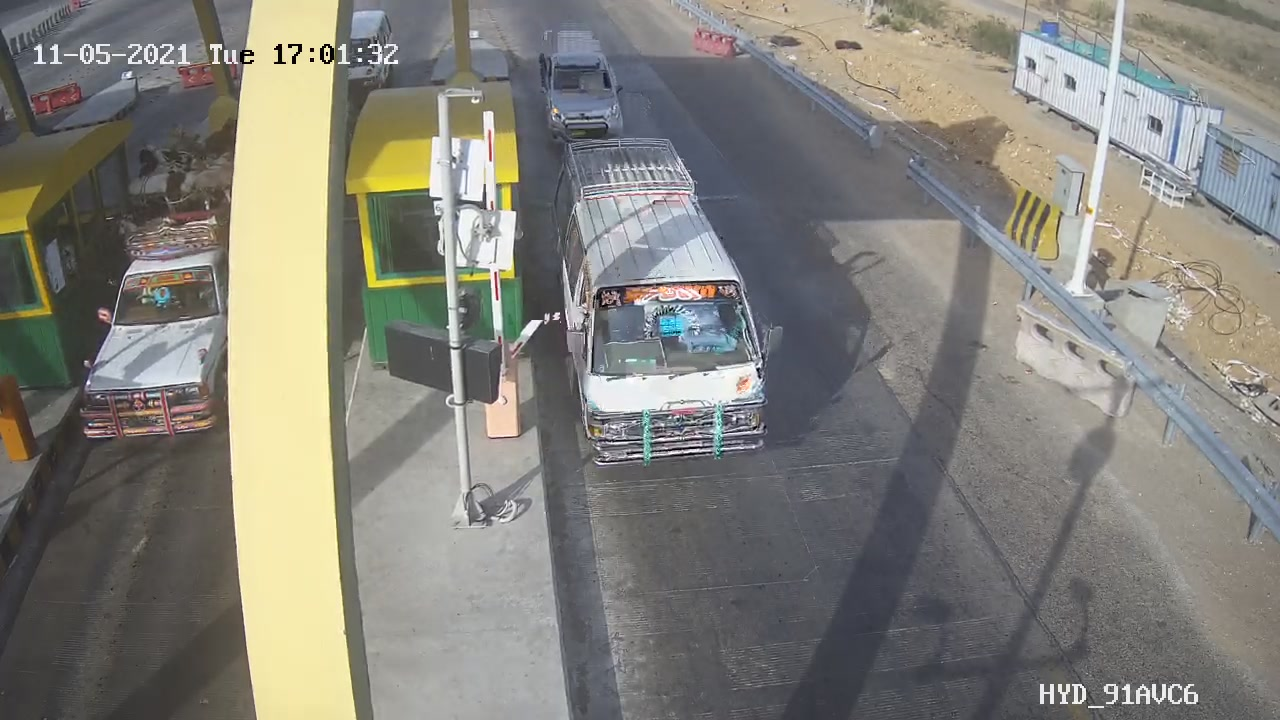F2: (530, 124, 808, 488)
